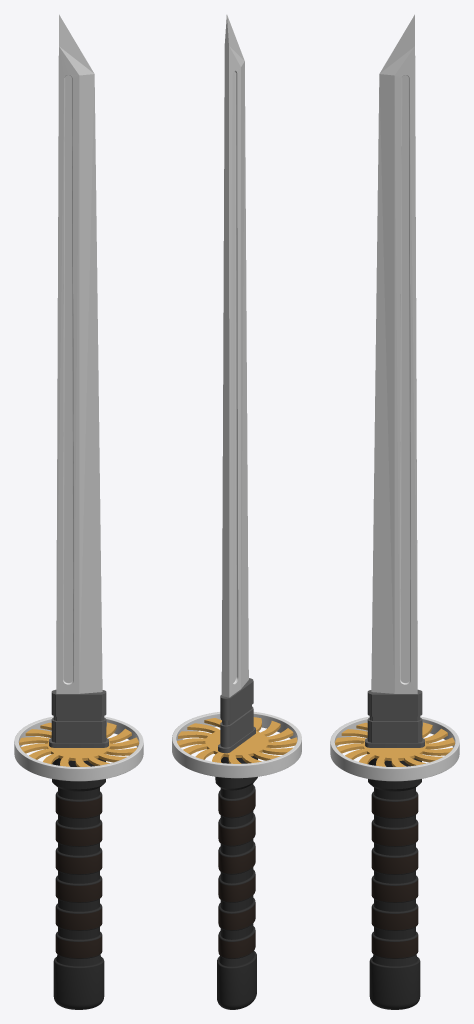
The model's file is NinjaSword.dae.
The picture shows the model from 3 angles, left to right: view 1: azimuth 90°, elevation 25°; view 2: azimuth 150°, elevation 25°; view 3: azimuth 270°, elevation 25°; orthographic projection.
Parts seen in each view (by area): view 1: NinjaSword; view 2: NinjaSword; view 3: NinjaSword.
Part boxes in pixels (x1,y1,x2,y2): NinjaSword: (14,14,143,1009); NinjaSword: (172,15,301,1009); NinjaSword: (330,14,459,1009).
Bounding box in the file's own units: 1.85 × 1.85 × 15.61.
